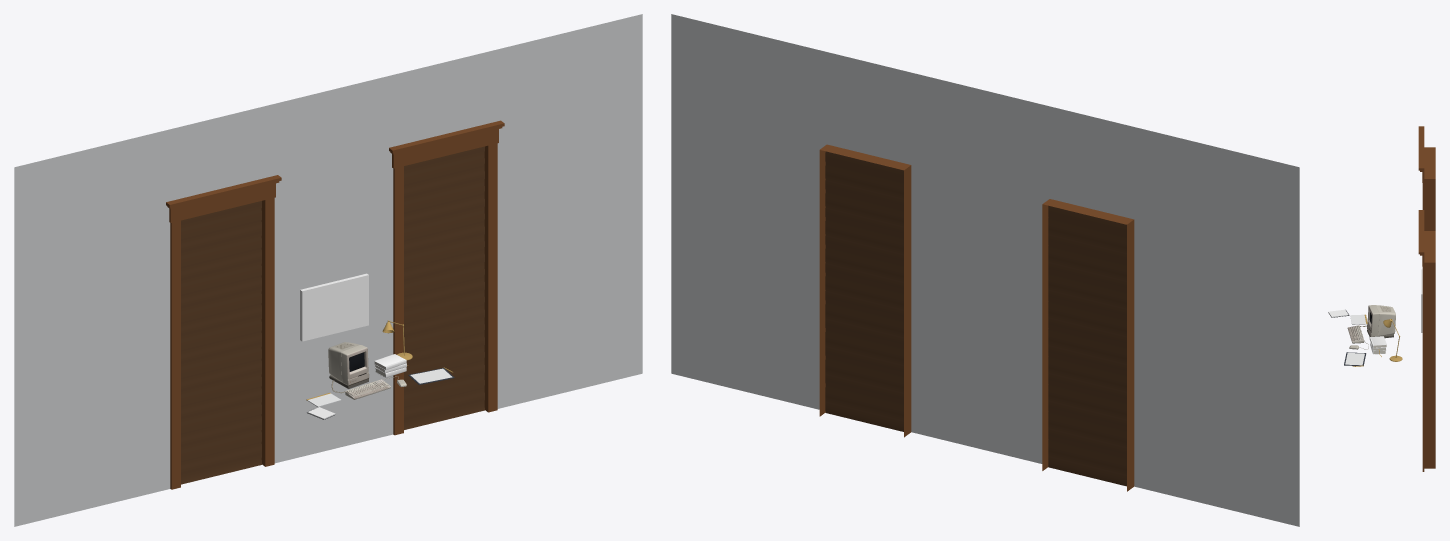
The model's file is study.glb.
The picture shows the model from 3 angles, left to right: view 1: azimuth 30°, elevation 25°; view 2: azimuth 150°, elevation 25°; view 3: azimuth 270°, elevation 25°; orthographic projection. The views are drawn at different scales.
Parts seen in each view (by area): view 1: Wall, Shades, Casings, Canvas, Mac; view 2: Wall, Shades, Casings; view 3: Casings, Mac, Working, Keyboard, Lamp, Book_everyone, Pad.
Boxes of the visible parts, x1,y1,x2,y2 form: Wall: [14, 14, 642, 526]; Shades: [181, 146, 484, 484]; Casings: [166, 120, 504, 489]; Canvas: [300, 273, 368, 341]; Mac: [328, 342, 369, 388]; Wall: [671, 14, 1299, 526]; Shades: [825, 151, 1126, 486]; Casings: [819, 144, 1134, 491]; Casings: [1418, 126, 1435, 471]; Mac: [1367, 305, 1395, 338]; Working: [1344, 352, 1366, 365]; Keyboard: [1347, 325, 1364, 343]; Lamp: [1383, 319, 1402, 361]; Book_everyone: [1369, 336, 1386, 348]; Pad: [1350, 314, 1367, 324].
Bounding box in the file's own units: 6.4 × 3.5 × 1.23.
Materials: 25 (1 with a texture image).
